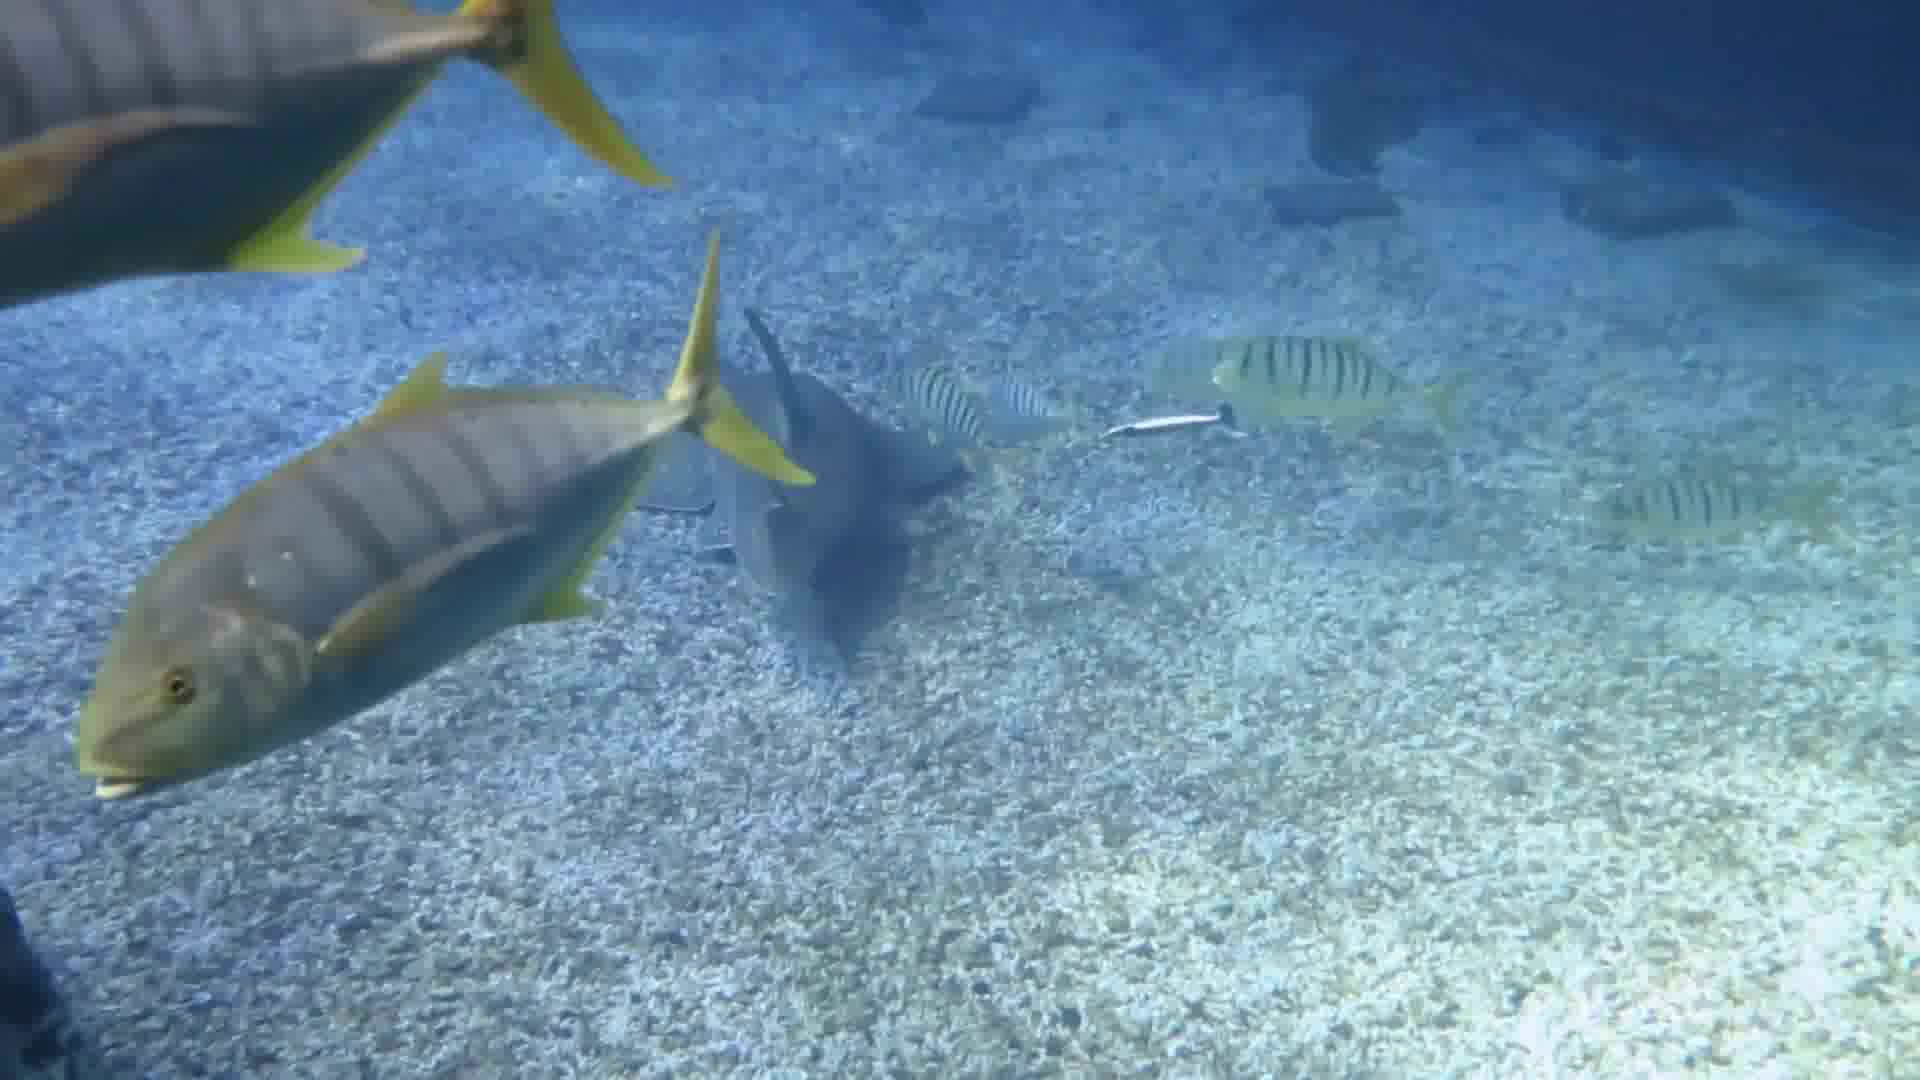Rhychobatus djiddensis: (650, 265, 978, 709)
